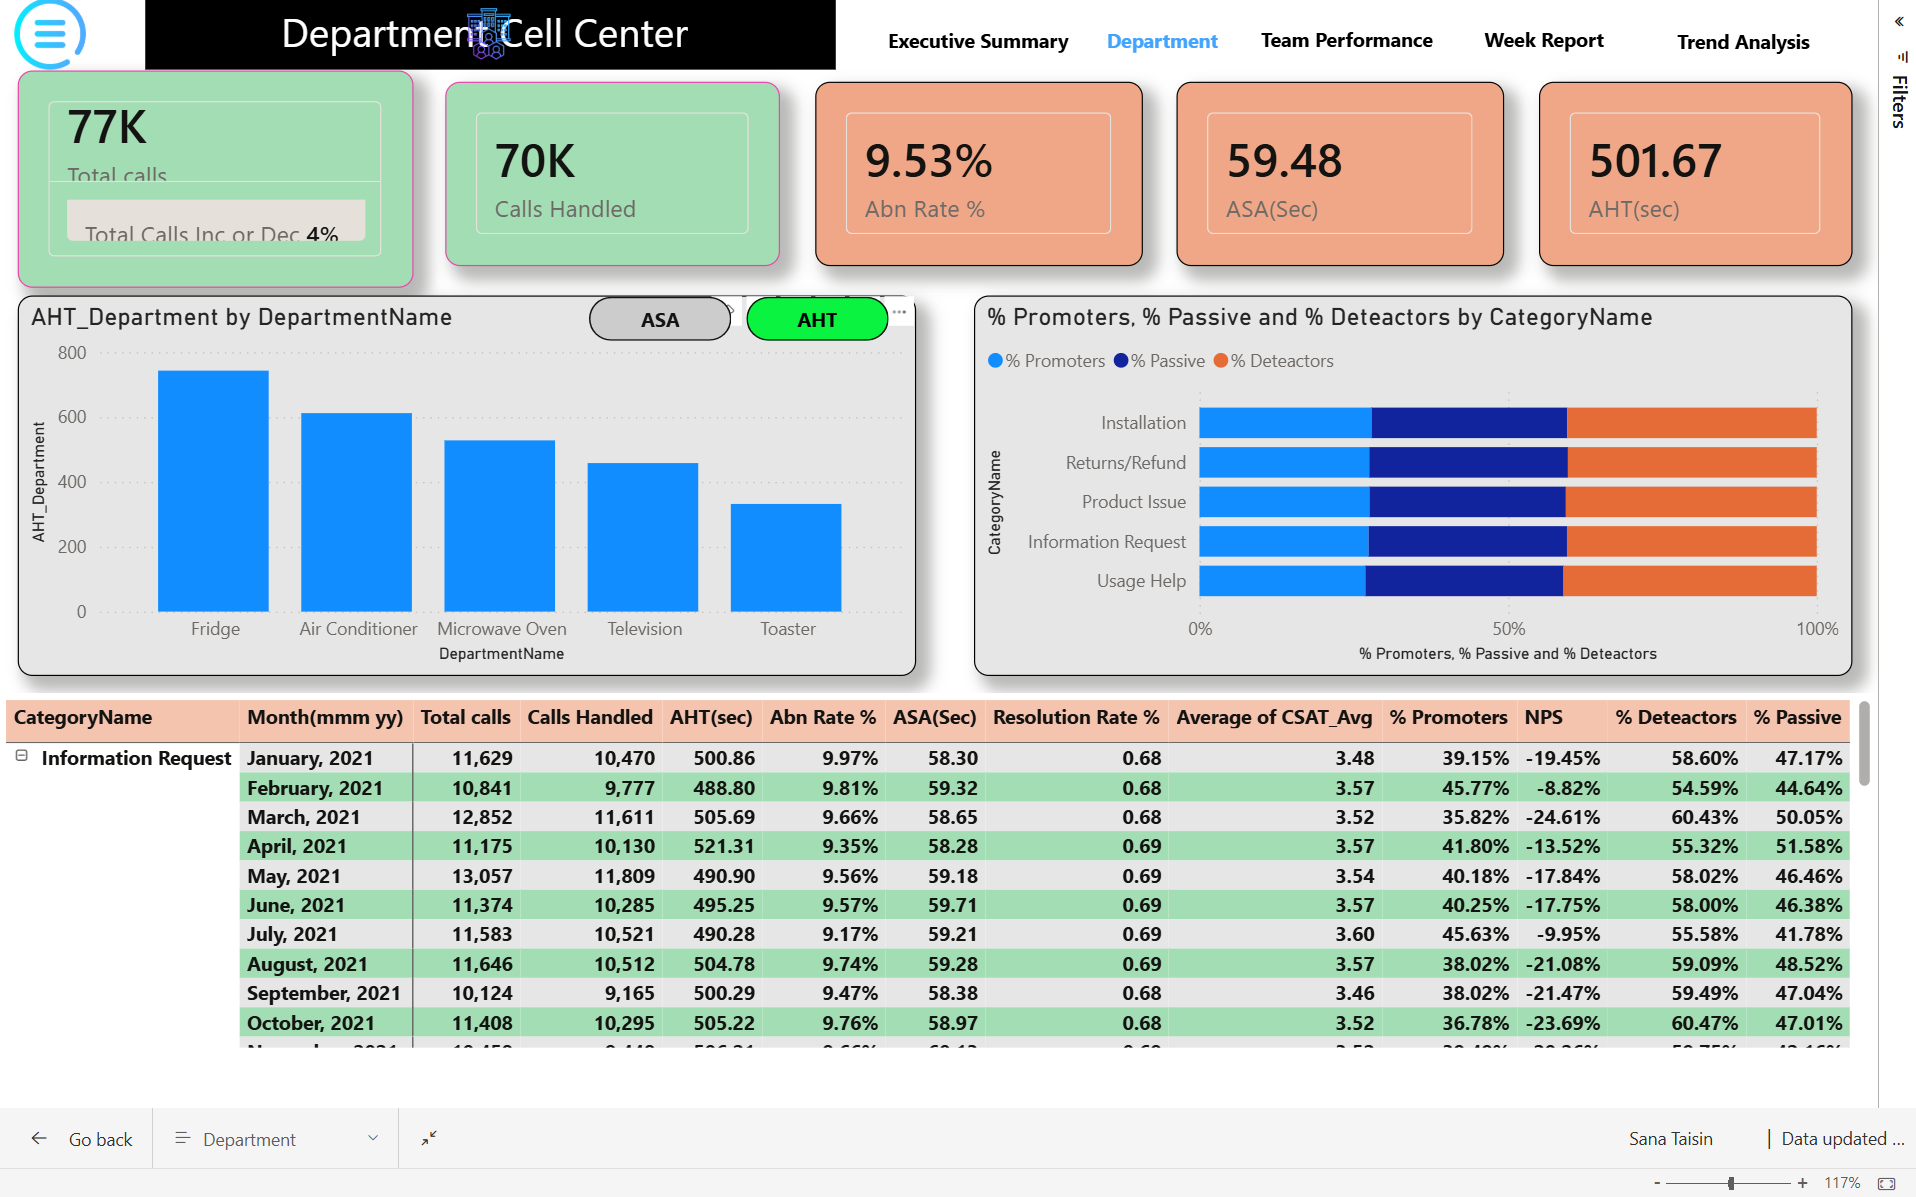

The page's visual inventory and layout, read from the dashboard file:
{"tool":"powerbi","page":{"name":"Department","canvas":[1280,720],"ordinal":1},"visuals":[{"type":"cardVisual","fields":{"Data":["MTable.Total calls"]},"box":[12.5,49.1,269.2,148.3],"z":0},{"type":"hundredPercentStackedBarChart","fields":{"Category":["Category.CategoryName"],"Y":["MTable.% Promoters","MTable.% Passive","MTable.% Deteactors"]},"box":[664.2,203.1,598.3,259.3],"z":1000},{"type":"columnChart","fields":{"Category":["Department.DepartmentName"],"Y":["MTable.AHT_Department"]},"box":[12.3,203.1,612,259.3],"z":2000},{"type":"advancedSlicerVisual","fields":{"Values":["City.Region"]},"box":[624.3,529.4,231.3,191.3],"z":3000},{"type":"advancedSlicerVisual","fields":{"Values":["Category.CategoryName"]},"box":[490.8,0,13.3,14.8],"z":5000},{"type":"pivotTable","fields":{"Rows":["Category.CategoryName","Calender.Month(mmm yy)"],"Values":["MTable.Total calls","MTable.Calls Handled","MTable.AHT(sec)","MTable.Abn Rate %","MTable.ASA(Sec)","MTable.Resolution Rate %","Avg(Calls.CSAT_Avg)","MTable.% Promoters","MTable.NPS","MTable.% Deteactors","MTable.% Passive"]},"box":[0,473.4,1280.3,247],"z":6000},{"type":"cardVisual","fields":{"Data":["MTable.Calls Handled"]},"box":[304.1,57.1,228.4,125.4],"z":7000},{"type":"cardVisual","fields":{"Data":["MTable.Abn Rate %"]},"box":[556.1,57.1,223.4,125.4],"z":8000},{"type":"cardVisual","fields":{"Data":["MTable.AHT(sec)"]},"box":[1048.9,57.1,213.5,125.4],"z":9000},{"type":"cardVisual","fields":{"Data":["MTable.ASA(Sec)"]},"box":[801.9,57.1,223.4,125.4],"z":10000},{"type":"bookmarkNavigator","box":[402.3,203.3,204.4,30.4],"z":11000},{"type":"actionButton","box":[594.6,8.9,145.3,40],"z":12000},{"type":"actionButton","box":[738.8,8.9,106.8,40],"z":13000},{"type":"actionButton","box":[844.4,8.9,146.8,38.6],"z":14000},{"type":"image","box":[0,0,69.6,49.1],"z":18000},{"type":"textbox","box":[99.4,0,470.1,48.9],"z":19000},{"type":"image","box":[130.2,7,57,34.9],"z":20000},{"type":"actionButton","box":[990,8.9,124.6,38.6],"z":21000},{"type":"actionButton","box":[1113.4,8.9,149,41],"z":22000}]}

Visuals, with their boxes on the page's 1280x720 design canvas (x1, y1, x2, y2). These are canvas units, not pixel positions in the 1916x1197 screenshot, which may show the page scaled, cropped or inside an application window:
cardVisual - MTable.Total calls: box=[12, 49, 282, 197]
hundredPercentStackedBarChart - Category.CategoryName x MTable.% Promoters: box=[664, 203, 1262, 462]
columnChart - Department.DepartmentName x MTable.AHT_Department: box=[12, 203, 624, 462]
advancedSlicerVisual - City.Region: box=[624, 529, 856, 721]
advancedSlicerVisual - Category.CategoryName: box=[491, 0, 504, 15]
pivotTable - Category.CategoryName x Calender.Month(mmm yy): box=[0, 473, 1280, 720]
cardVisual - MTable.Calls Handled: box=[304, 57, 532, 182]
cardVisual - MTable.Abn Rate %: box=[556, 57, 780, 182]
cardVisual - MTable.AHT(sec): box=[1049, 57, 1262, 182]
cardVisual - MTable.ASA(Sec): box=[802, 57, 1025, 182]
bookmarkNavigator: box=[402, 203, 607, 234]
actionButton: box=[595, 9, 740, 49]
actionButton: box=[739, 9, 846, 49]
actionButton: box=[844, 9, 991, 48]
image: box=[0, 0, 70, 49]
textbox: box=[99, 0, 570, 49]
image: box=[130, 7, 187, 42]
actionButton: box=[990, 9, 1115, 48]
actionButton: box=[1113, 9, 1262, 50]
